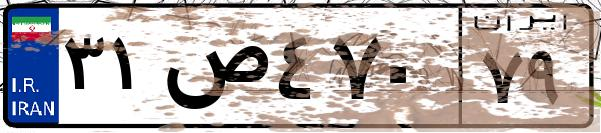0: (385, 28, 445, 110)
1: (110, 28, 158, 98)
3: (57, 26, 110, 100)
4: (270, 28, 330, 110)
7: (330, 28, 385, 110), (475, 38, 525, 113)
9: (525, 38, 570, 115)
ص: (158, 20, 270, 120)
